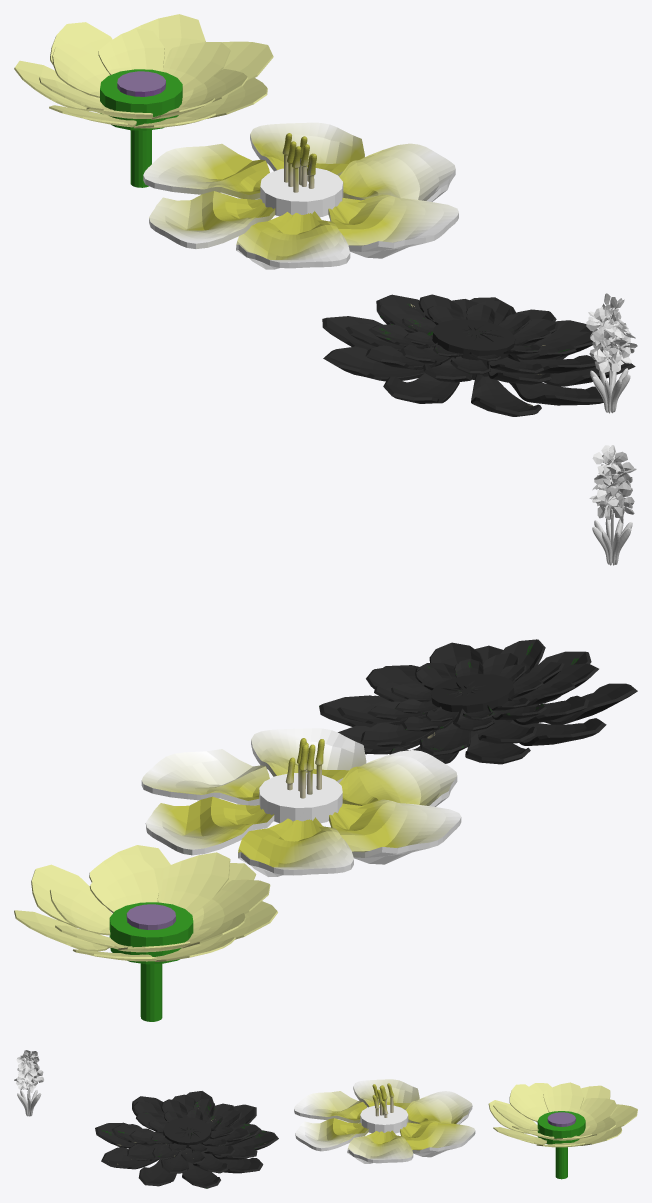
Rendered from flowers.fbx.
3 views of the same model, one above another, from view 1: azimuth 30°, elevation 25°; view 2: azimuth 150°, elevation 25°; view 3: azimuth 270°, elevation 25° (orthographic). The views are drawn at different scales.
Parts seen in each view (by area): view 1: Plane.025, Plane.022, Plane.020, Plane.019, Plane.021, Plane.023, Cylinder.008, Plane.024, Cylinder.011, Cylinder.010, Plane.001, Cube.126 (+2 smaller); view 2: Plane.025, Plane.020, Plane.021, Plane.022, Plane.019, Plane.023, Cylinder.008, Plane.024, Cylinder.011, Cylinder.010, Plane.001, Cube.126 (+2 smaller); view 3: Plane.025, Plane.022, Plane.020, Plane.021, Plane.023, Plane.019, Plane.024, Cylinder.008, Cylinder.010, Cylinder.011, Plane.001, Cube.126 (+2 smaller).
Part boxes in pixels (x1=…): Plane.025: x1=143, y1=122, x2=458, y2=269; Plane.022: x1=322, y1=294, x2=635, y2=416; Plane.020: x1=39, y1=28, x2=248, y2=119; Plane.019: x1=14, y1=14, x2=273, y2=128; Plane.021: x1=345, y1=299, x2=596, y2=384; Plane.023: x1=368, y1=294, x2=576, y2=374; Cylinder.008: x1=100, y1=69, x2=182, y2=187; Plane.024: x1=402, y1=304, x2=551, y2=361; Cylinder.011: x1=260, y1=167, x2=343, y2=217; Cylinder.010: x1=432, y1=319, x2=515, y2=379; Plane.001: x1=586, y1=293, x2=637, y2=372; Cube.126: x1=282, y1=133, x2=316, y2=192; Plane.025: x1=141, y1=728, x2=461, y2=876; Plane.020: x1=50, y1=852, x2=270, y2=952; Plane.021: x1=337, y1=639, x2=598, y2=755; Plane.022: x1=319, y1=645, x2=637, y2=764; Plane.019: x1=14, y1=845, x2=277, y2=961; Plane.023: x1=367, y1=653, x2=575, y2=731; Cylinder.008: x1=109, y1=902, x2=193, y2=1021; Plane.024: x1=391, y1=658, x2=543, y2=721; Cylinder.011: x1=259, y1=772, x2=342, y2=823; Cylinder.010: x1=430, y1=674, x2=514, y2=731; Plane.001: x1=589, y1=445, x2=636, y2=523; Cube.126: x1=285, y1=738, x2=324, y2=798; Plane.025: x1=294, y1=1079, x2=475, y2=1163; Plane.022: x1=95, y1=1091, x2=278, y2=1188; Plane.020: x1=493, y1=1082, x2=617, y2=1140; Plane.021: x1=111, y1=1094, x2=261, y2=1173; Plane.023: x1=129, y1=1099, x2=250, y2=1163; Plane.019: x1=488, y1=1083, x2=637, y2=1147; Plane.024: x1=148, y1=1109, x2=234, y2=1152; Cylinder.008: x1=537, y1=1111, x2=585, y2=1179; Cylinder.010: x1=163, y1=1117, x2=211, y2=1148; Cylinder.011: x1=360, y1=1105, x2=408, y2=1133; Plane.001: x1=14, y1=1050, x2=43, y2=1092; Cube.126: x1=372, y1=1083, x2=393, y2=1117.
Size of the model in its own units: 794 by 592 by 2596.
